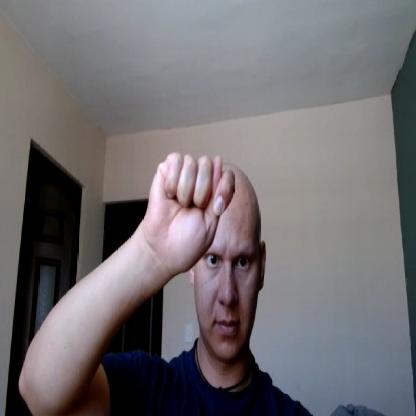T: (146, 150, 235, 274)
